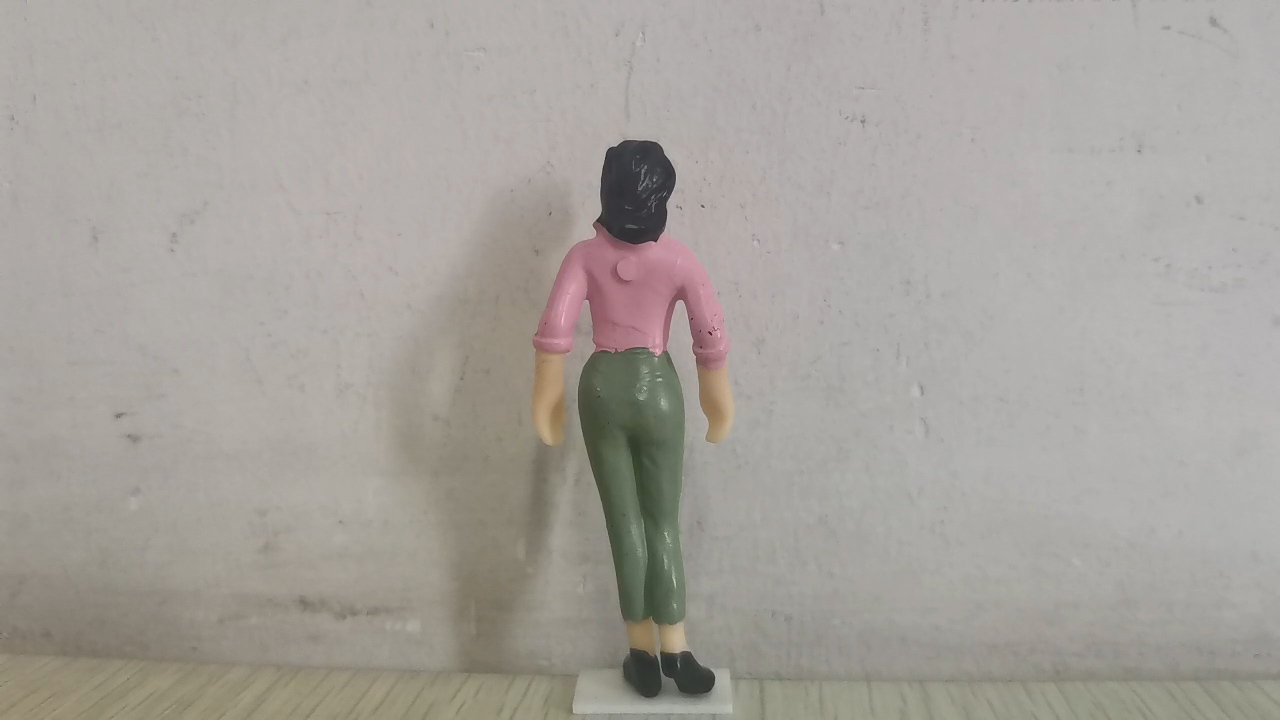person: (529, 137, 739, 702)
